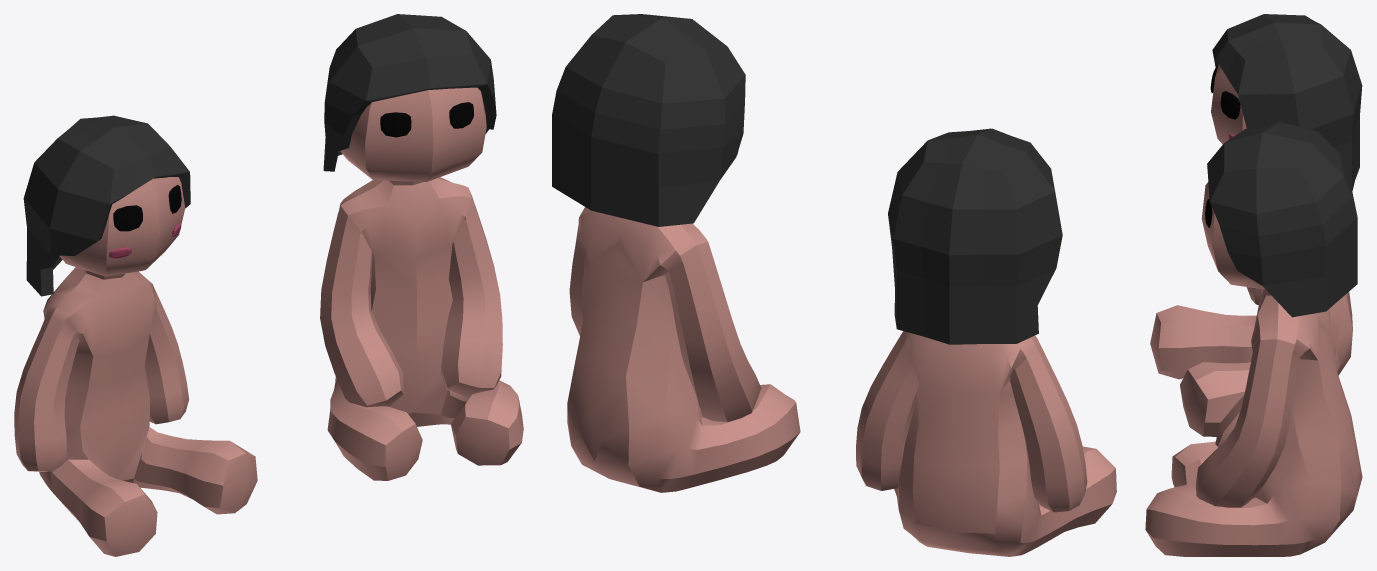
File: Doll.glb
The picture shows the model from 3 angles, left to right: view 1: azimuth 30°, elevation 25°; view 2: azimuth 150°, elevation 25°; view 3: azimuth 270°, elevation 25°; orthographic projection. The views are drawn at different scales.
Bounding box in the file's own units: 0.6313 × 0.5273 × 0.2558.
